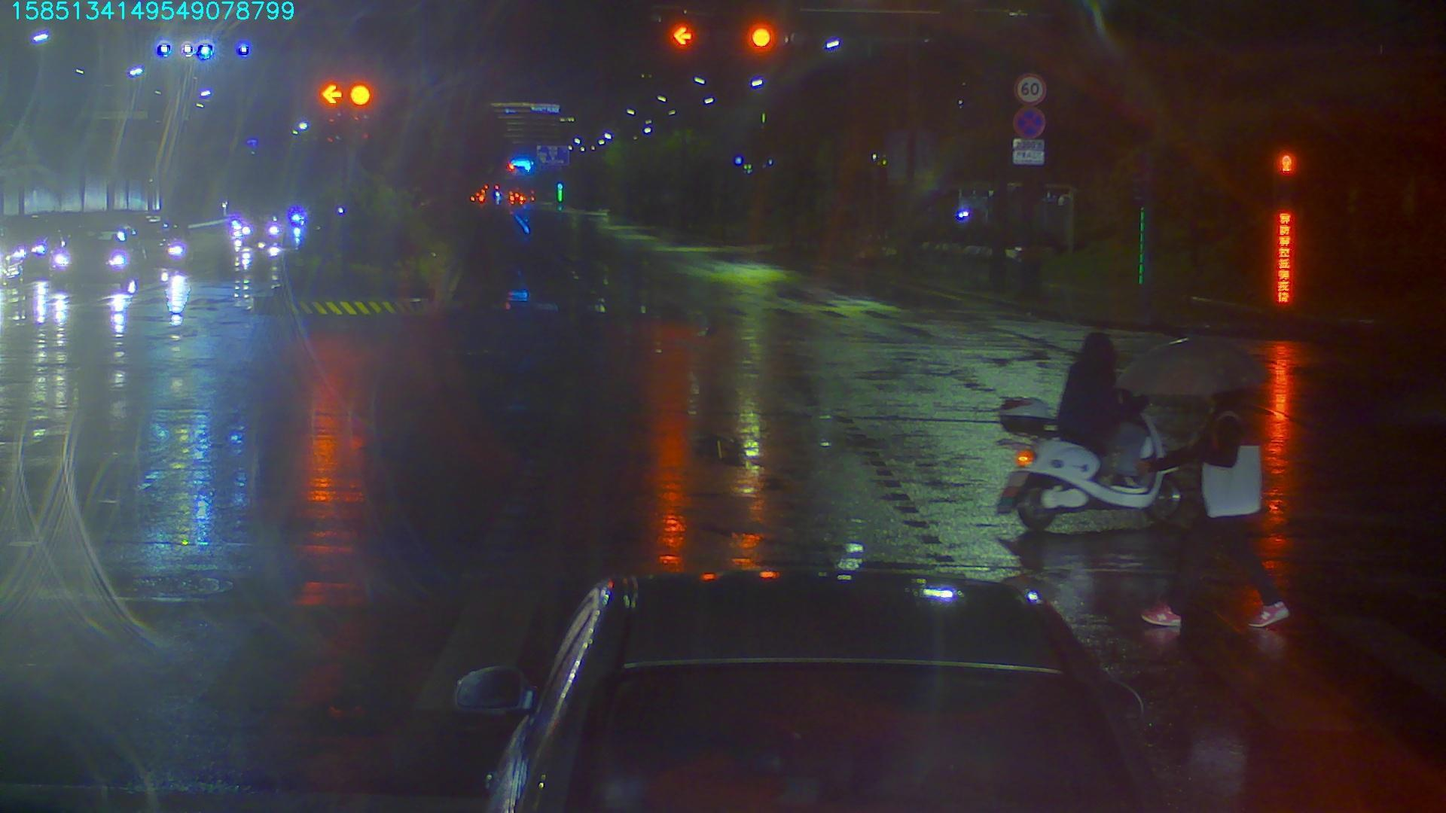red: (737, 24, 786, 66), (670, 19, 700, 53)
